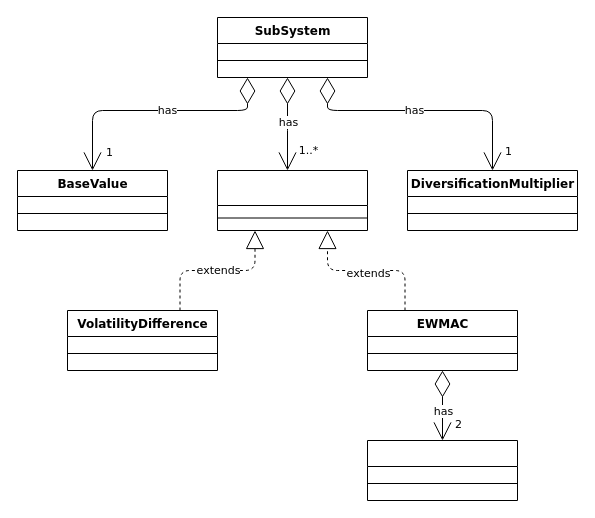
Some shapes in this 595 by 518 pixel diagram are drawn without their labels. Here are the shapes that lost their labels. From the top down, the centre of each, then its label:
At point 292,200: "<<Abstract>> Rule".
At point 442,470: "EWMA".
